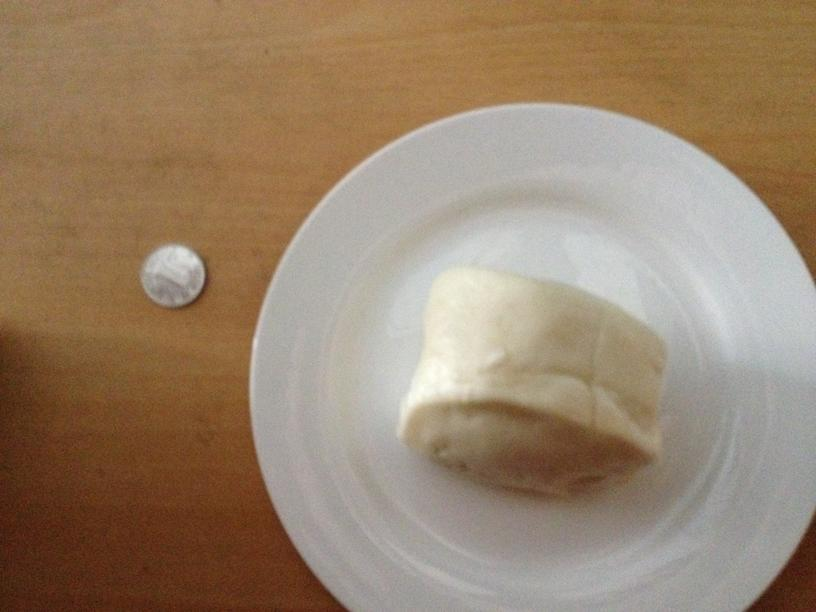bun: (395, 268, 667, 493)
coin: (139, 241, 207, 309)
